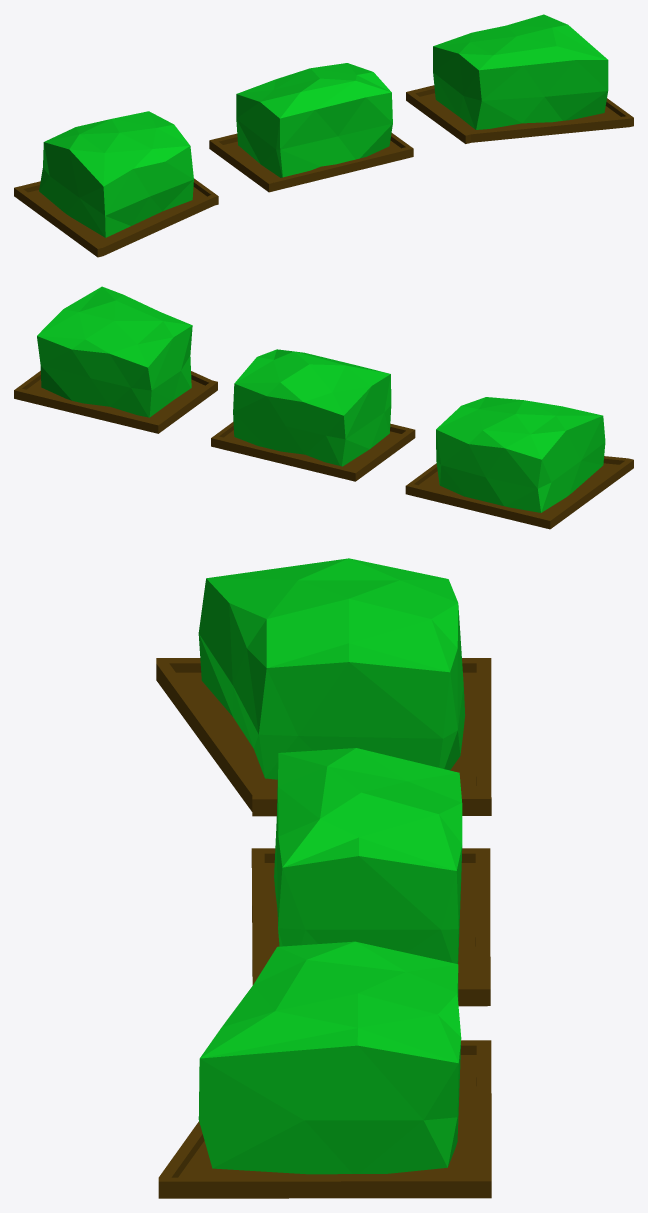
Rendered from Taman_semak 1.fbx.
The picture shows the model from 3 angles, top to bottom: view 1: azimuth 30°, elevation 25°; view 2: azimuth 150°, elevation 25°; view 3: azimuth 270°, elevation 25°; orthographic projection. The views are drawn at different scales.
Visible parts, largest first — view 1: 2, 1, 3; view 2: 1, 2, 3; view 3: 2, 1, 3.
Part boxes in pixels (x1,y1,x2,y2): 2: [406, 14, 633, 143]; 1: [14, 111, 218, 257]; 3: [209, 63, 413, 192]; 1: [405, 397, 633, 529]; 2: [14, 286, 217, 433]; 3: [211, 349, 415, 481]; 2: [158, 941, 491, 1198]; 1: [156, 558, 491, 816]; 3: [251, 748, 490, 1006].
Bounding box in the file's own units: 2186 × 291 × 592.
